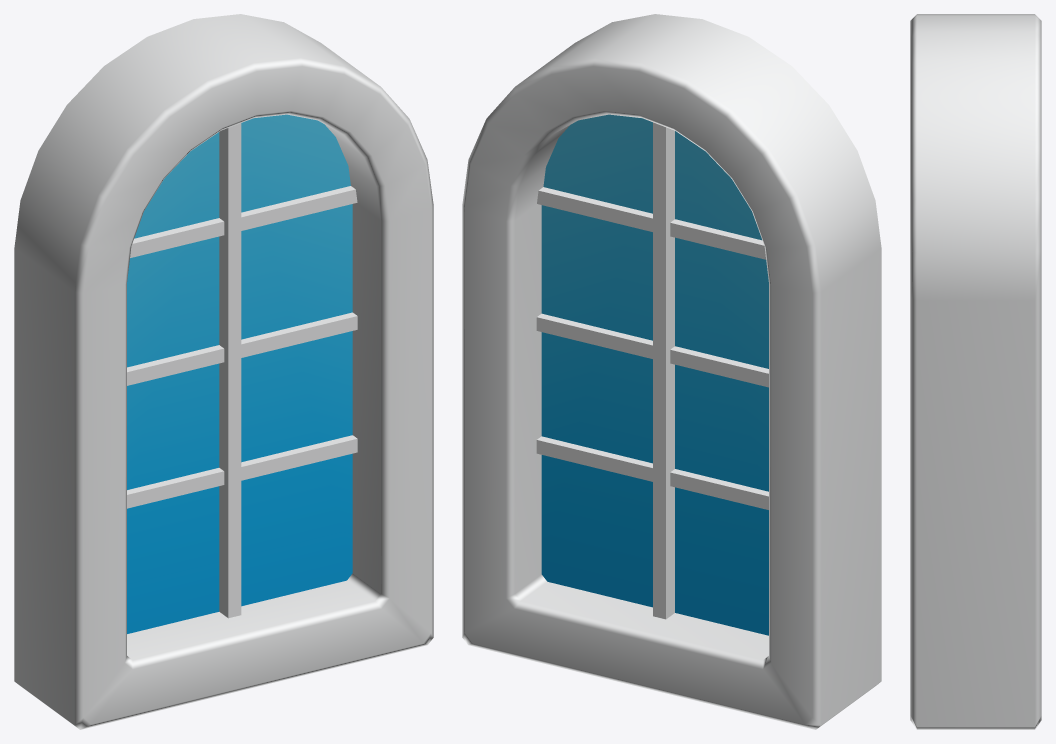
File: Window_White_19.glb
3 views of the same model, side by side, from view 1: azimuth 30°, elevation 25°; view 2: azimuth 150°, elevation 25°; view 3: azimuth 270°, elevation 25° (orthographic).
Visible parts, largest first — view 1: Window_White_19; view 2: Window_White_19; view 3: Window_White_19.
Part boxes in pixels (x1,y1,x2,y2): Window_White_19: (14, 14, 433, 729); Window_White_19: (462, 14, 881, 729); Window_White_19: (910, 14, 1041, 729).
Size of the model in its own units: 1.24 by 2.07 by 0.4.
Materials: 2 (2 with a texture image).
